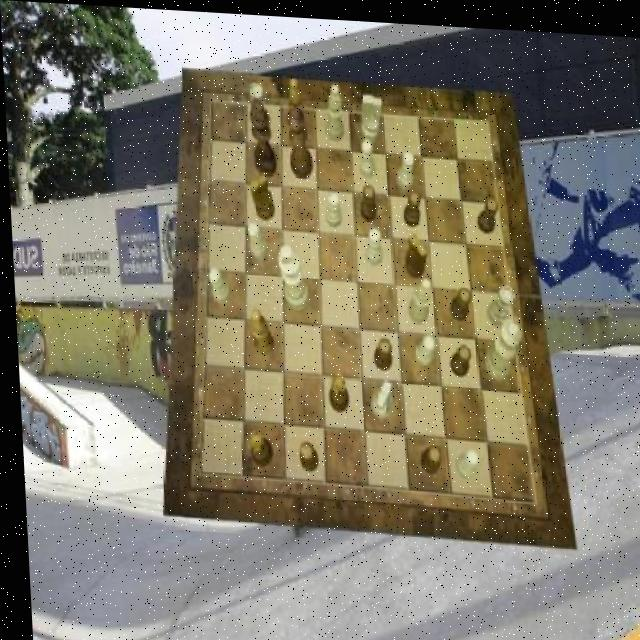bishop: (286, 75, 306, 134), (246, 306, 271, 353)
black-bishop: (247, 95, 275, 173)
black-king: (247, 170, 273, 219), (401, 228, 426, 274)
black-knight: (474, 191, 498, 228), (447, 282, 469, 318), (446, 340, 468, 373), (369, 334, 390, 368), (400, 184, 419, 221), (356, 180, 374, 218), (416, 439, 437, 470), (295, 437, 314, 469)
black-pawn: (285, 104, 311, 177)
black-queen: (242, 429, 268, 466), (323, 370, 345, 409)
black-rook: (403, 272, 429, 319), (322, 80, 343, 138)
white-bishop: (275, 242, 308, 309)
white-king: (358, 91, 382, 138), (364, 375, 389, 416)
white-knight: (203, 264, 227, 302), (450, 441, 475, 475), (394, 146, 414, 185), (246, 217, 265, 256), (356, 135, 374, 176), (410, 329, 431, 364), (361, 223, 379, 261), (322, 187, 339, 224)
white-pawn: (479, 313, 520, 377)
white-queen: (481, 277, 512, 321), (248, 81, 269, 129)
